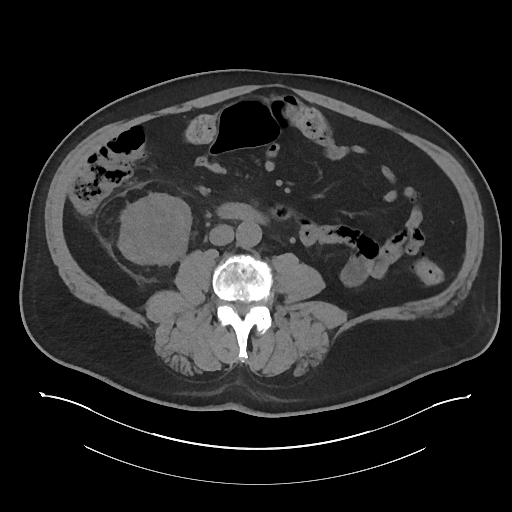Lesion: (116, 201, 189, 265)
